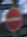No entry: (5, 6, 22, 32)
